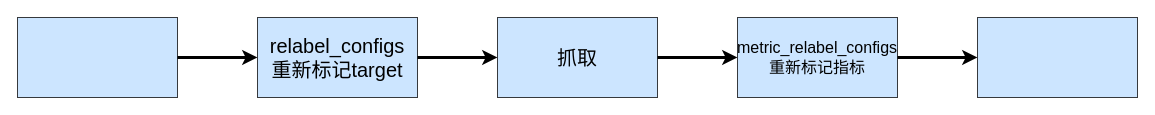
Some shapes in this 1155 by 115 pixel diagram are drawn without their labels. Each missing label, with the box of its shape:
存储: (976, 16, 1138, 98)
服务发现 返回配置: (16, 16, 178, 98)
